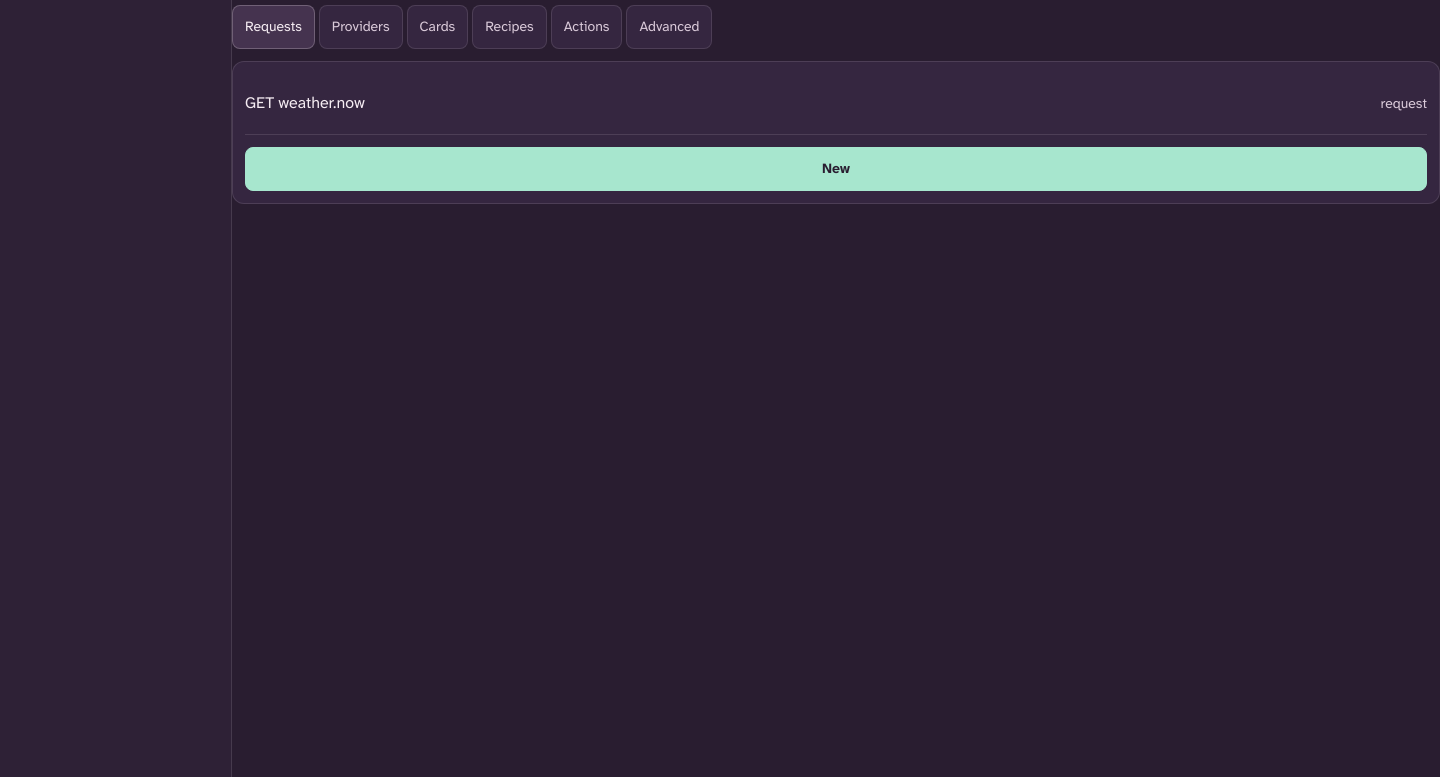
Connect: try › the sample is TEXT, not HTML — a sample containing markup must not create elements
Click the tab "Requests" at (273, 27), box [232,5,315,49]
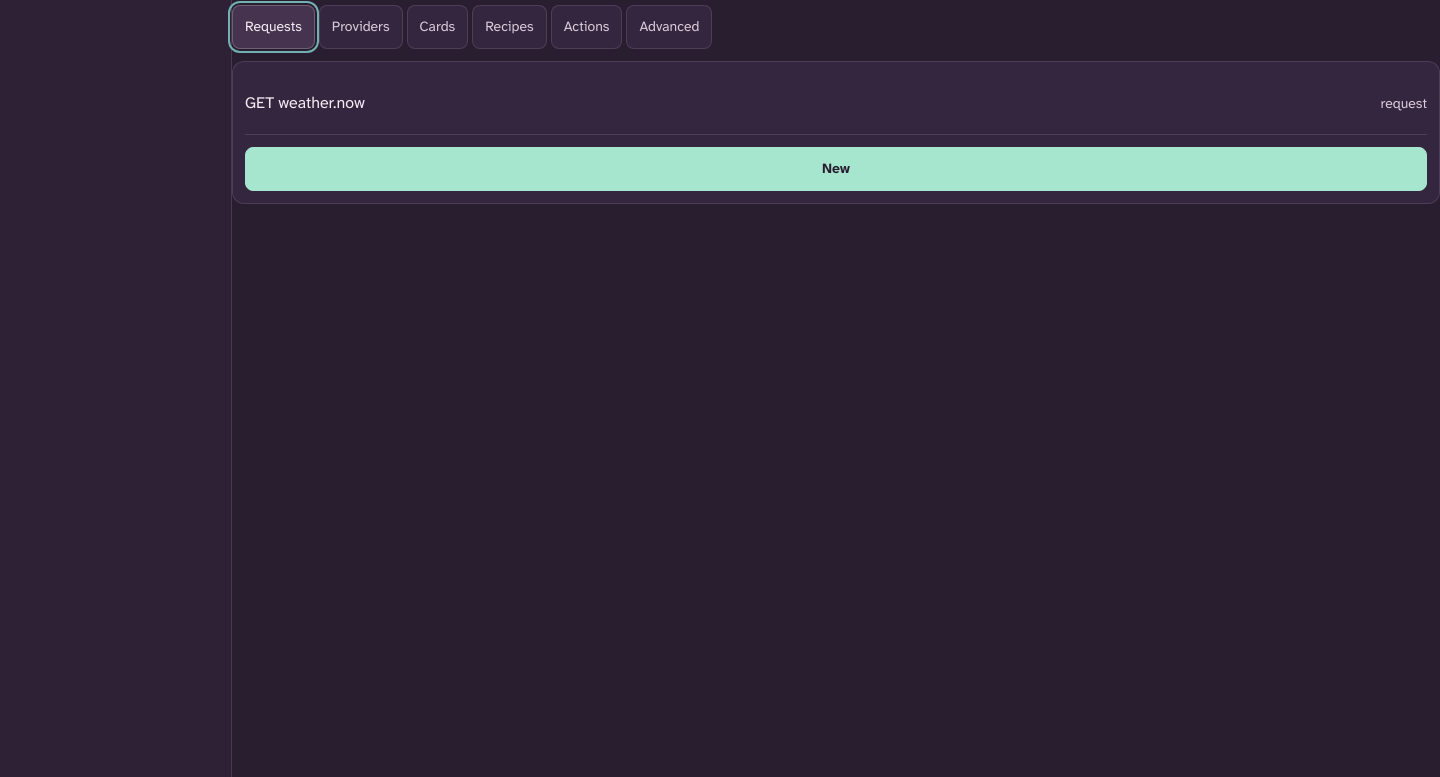
Click the button "GET weather.now" at (305, 103), box [245,82,1368,126]
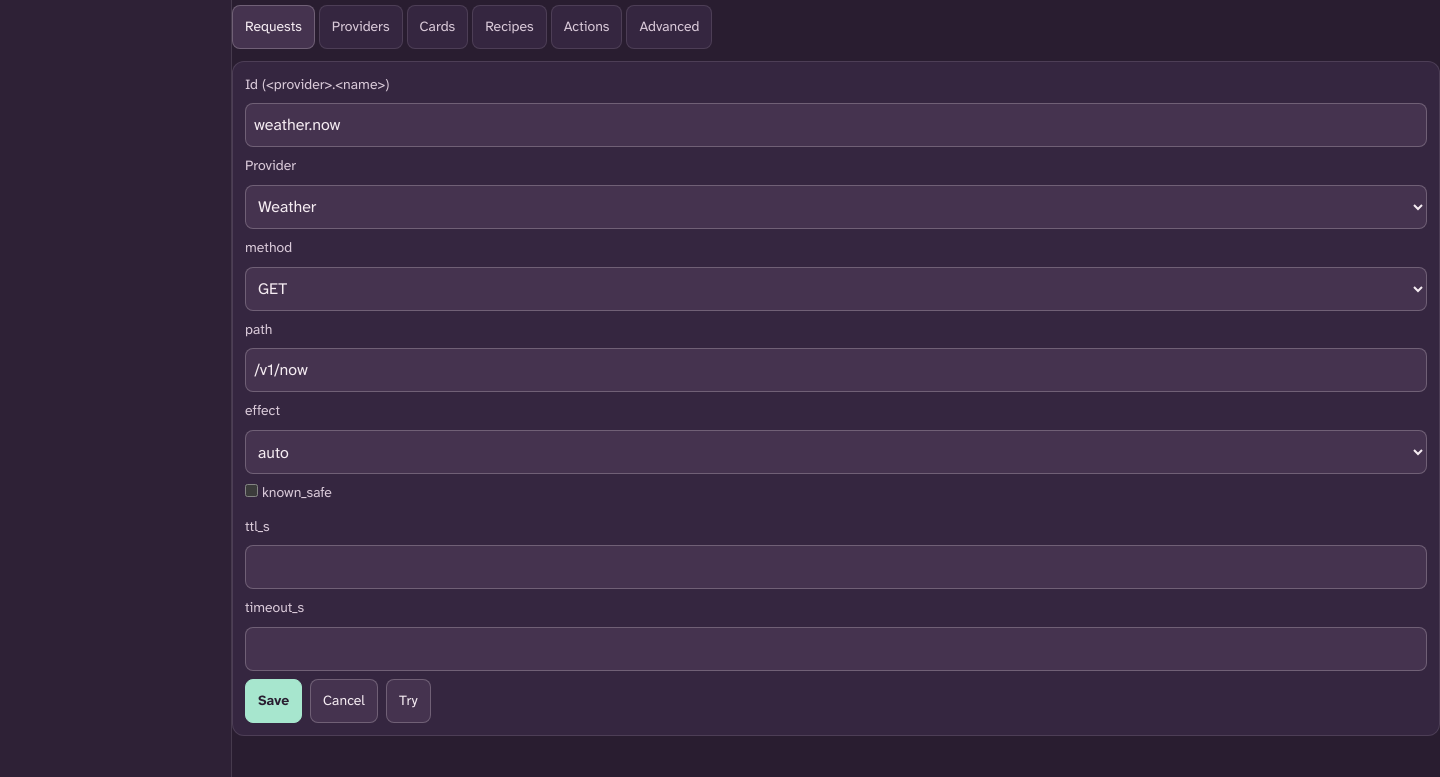
Click the button "Try" at (408, 701), box [386,679,431,723]
(page scrolled)
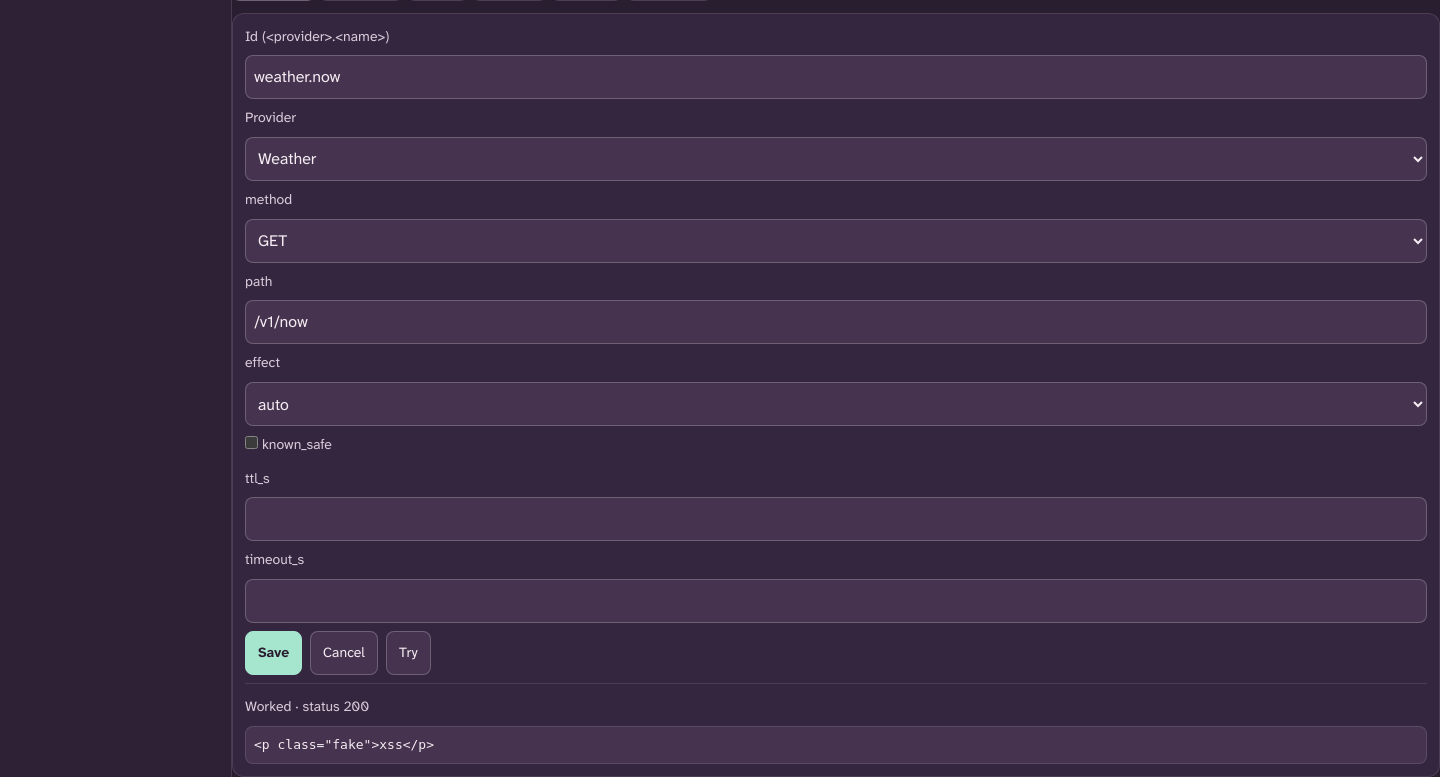
Result: the text "Worked · status 200" is shown at [245,697,370,715]
Result: the text "<p class=\"fake\">xss</p>" is shown at [245,726,1427,764]
